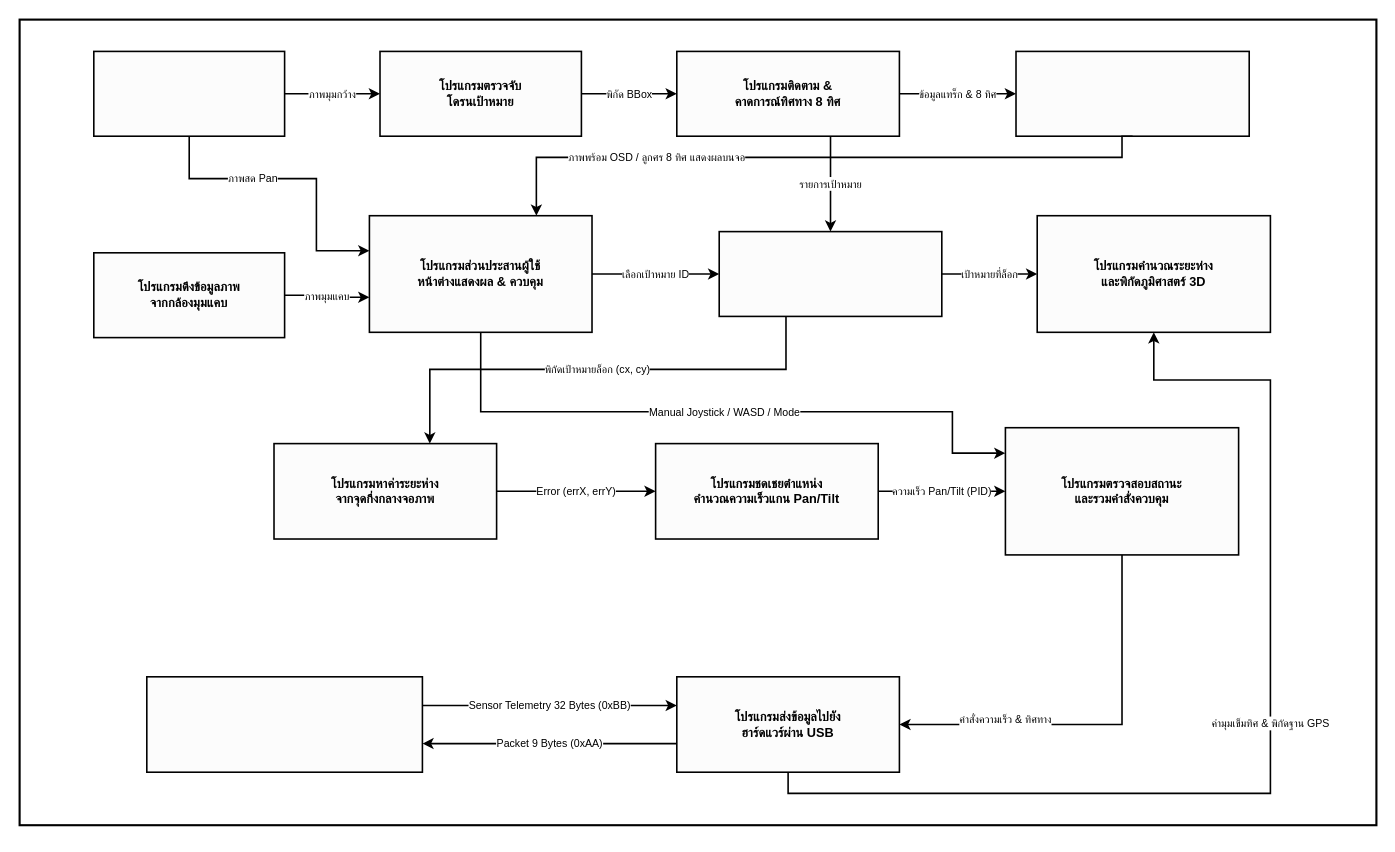
Image size: 1395x852. Some labels were removed from this diagram. Here are the shapes that lost their labels. From the top down, the centre of each, then its label:
At [189,93]: "โปรแกรมดึงข้อมูลภาพ จากกล้องมุมกว้าง".
At [1132,93]: "โปรแกรมวาดกรอบ ล็อกเป้า และลูกศรทิศทางบิน".
At [830,273]: "โปรแกรมเลือกเป้าหมาย และจัดการสิทธิ์การล็อกเป้า".
At [284,724]: "โปรแกรมควบคุมฮาร์ดแวร์".
